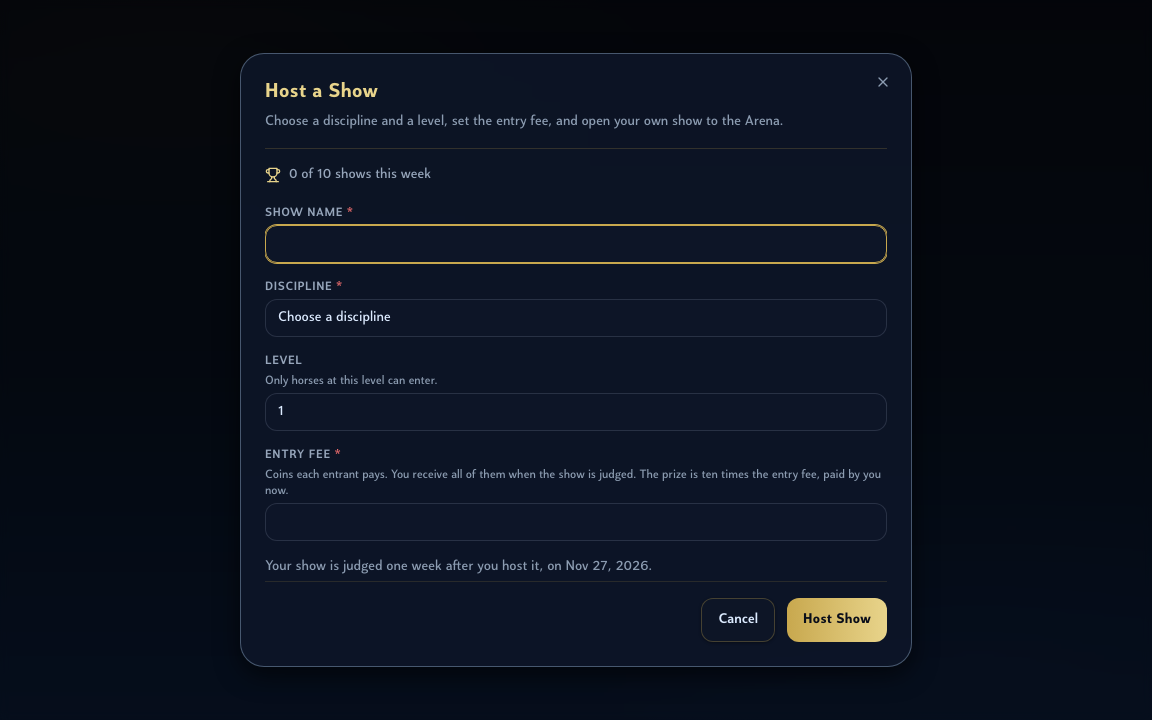
Test: CreateShowDialog (Equoria-oey96.13) › states the prize on the Host button and shows no balance preview
Check: the button "Host Show" is shown, box [787,598,887,642]
Type "Starlit Dressage Cup" into the field labelled "Show name *" at point(576, 244), box [265,225,887,263]
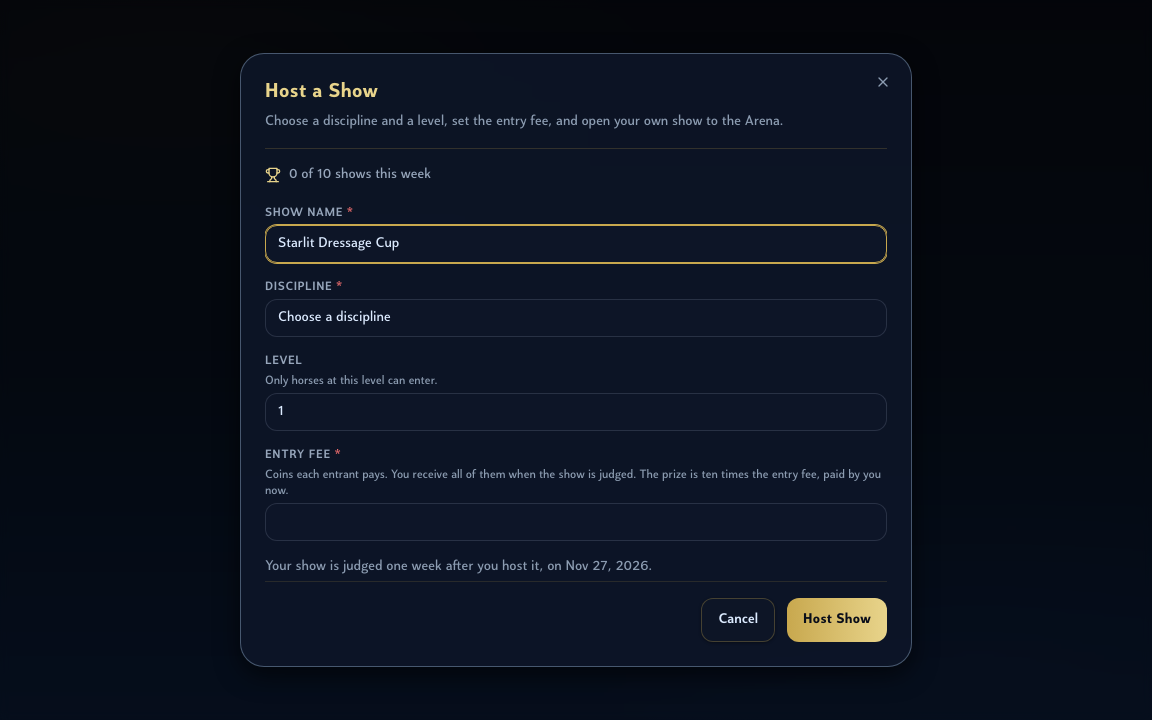
Select "Dressage" in the dropdown labelled "Discipline *" at point(576, 318), box [265,299,887,337]
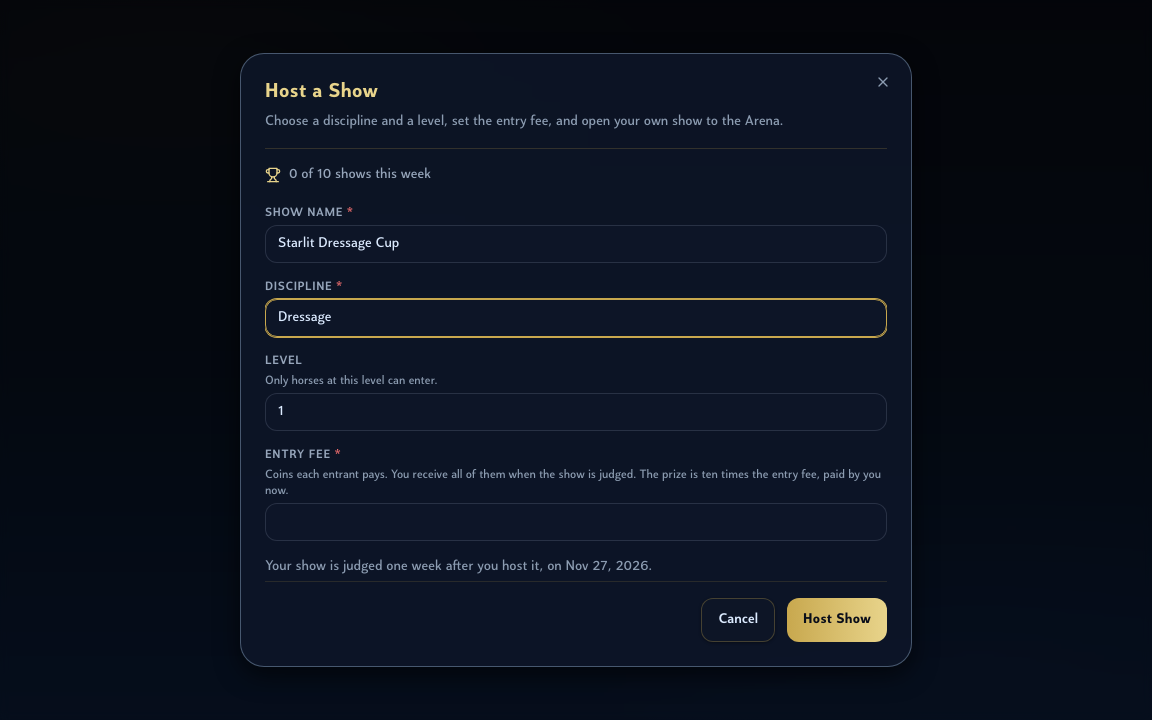
Select "3" in the dropdown labelled "Level" at point(576, 412), box [265,393,887,431]
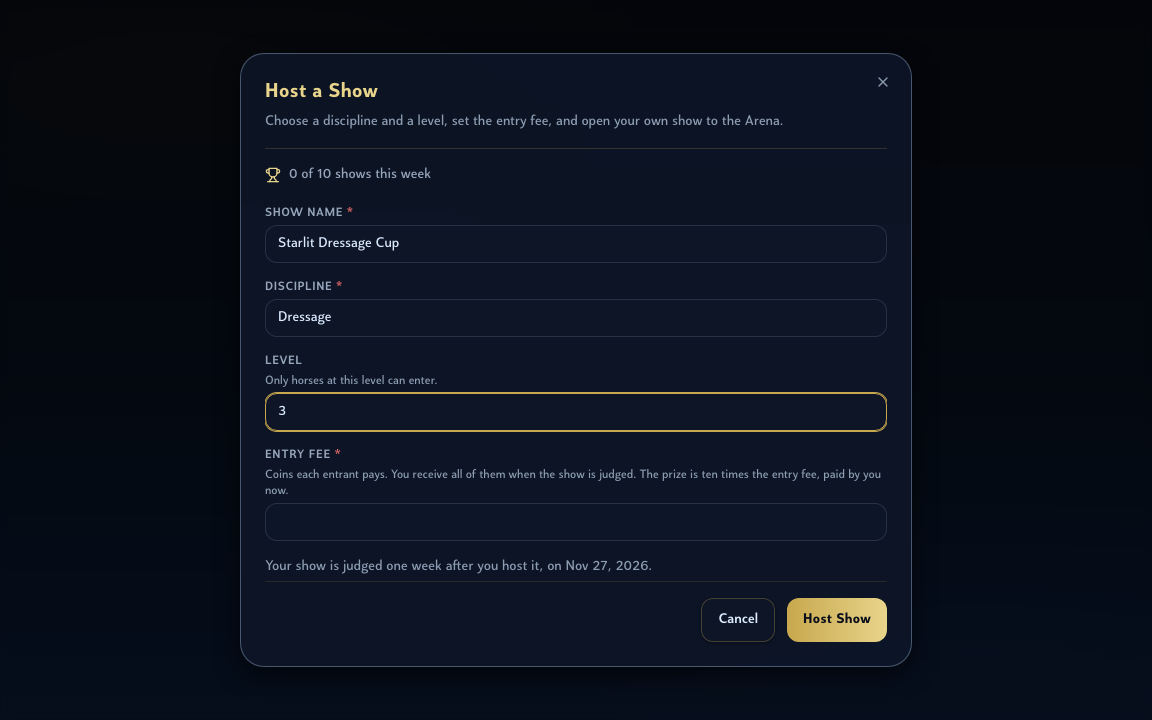
Type "50" into the number field labelled "Entry fee *" at point(576, 522), box [265,503,887,541]
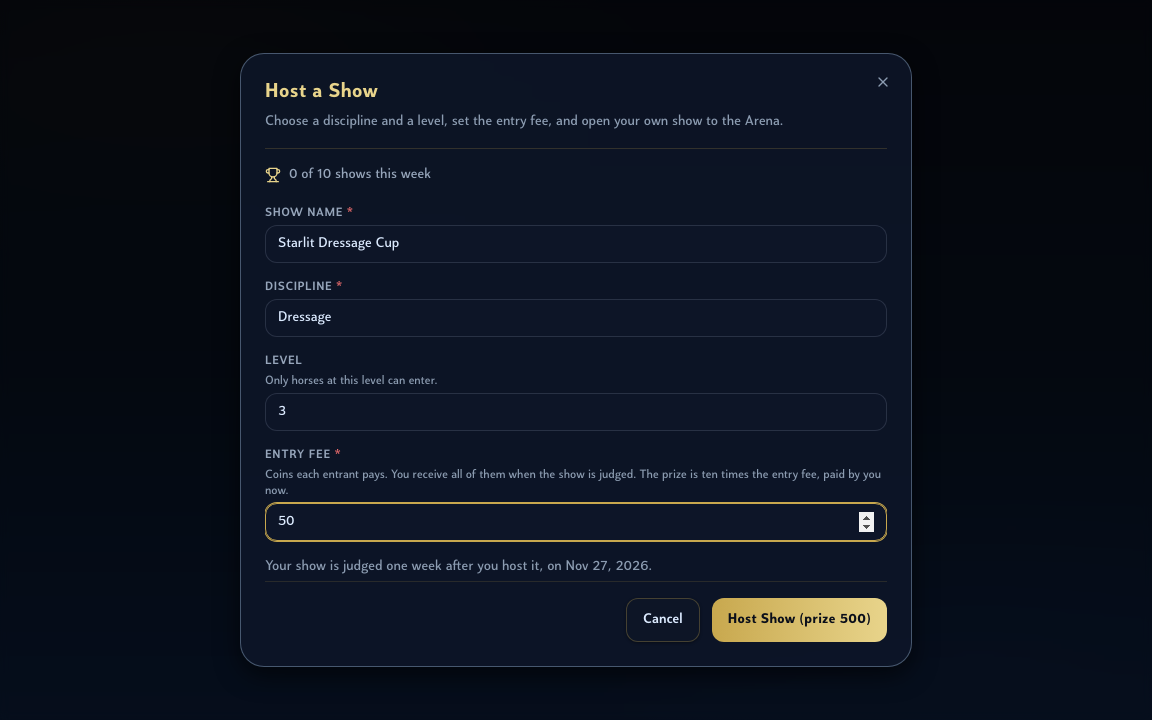
Check: the button "Host Show (prize 500)" is shown, box [712,598,887,642]
